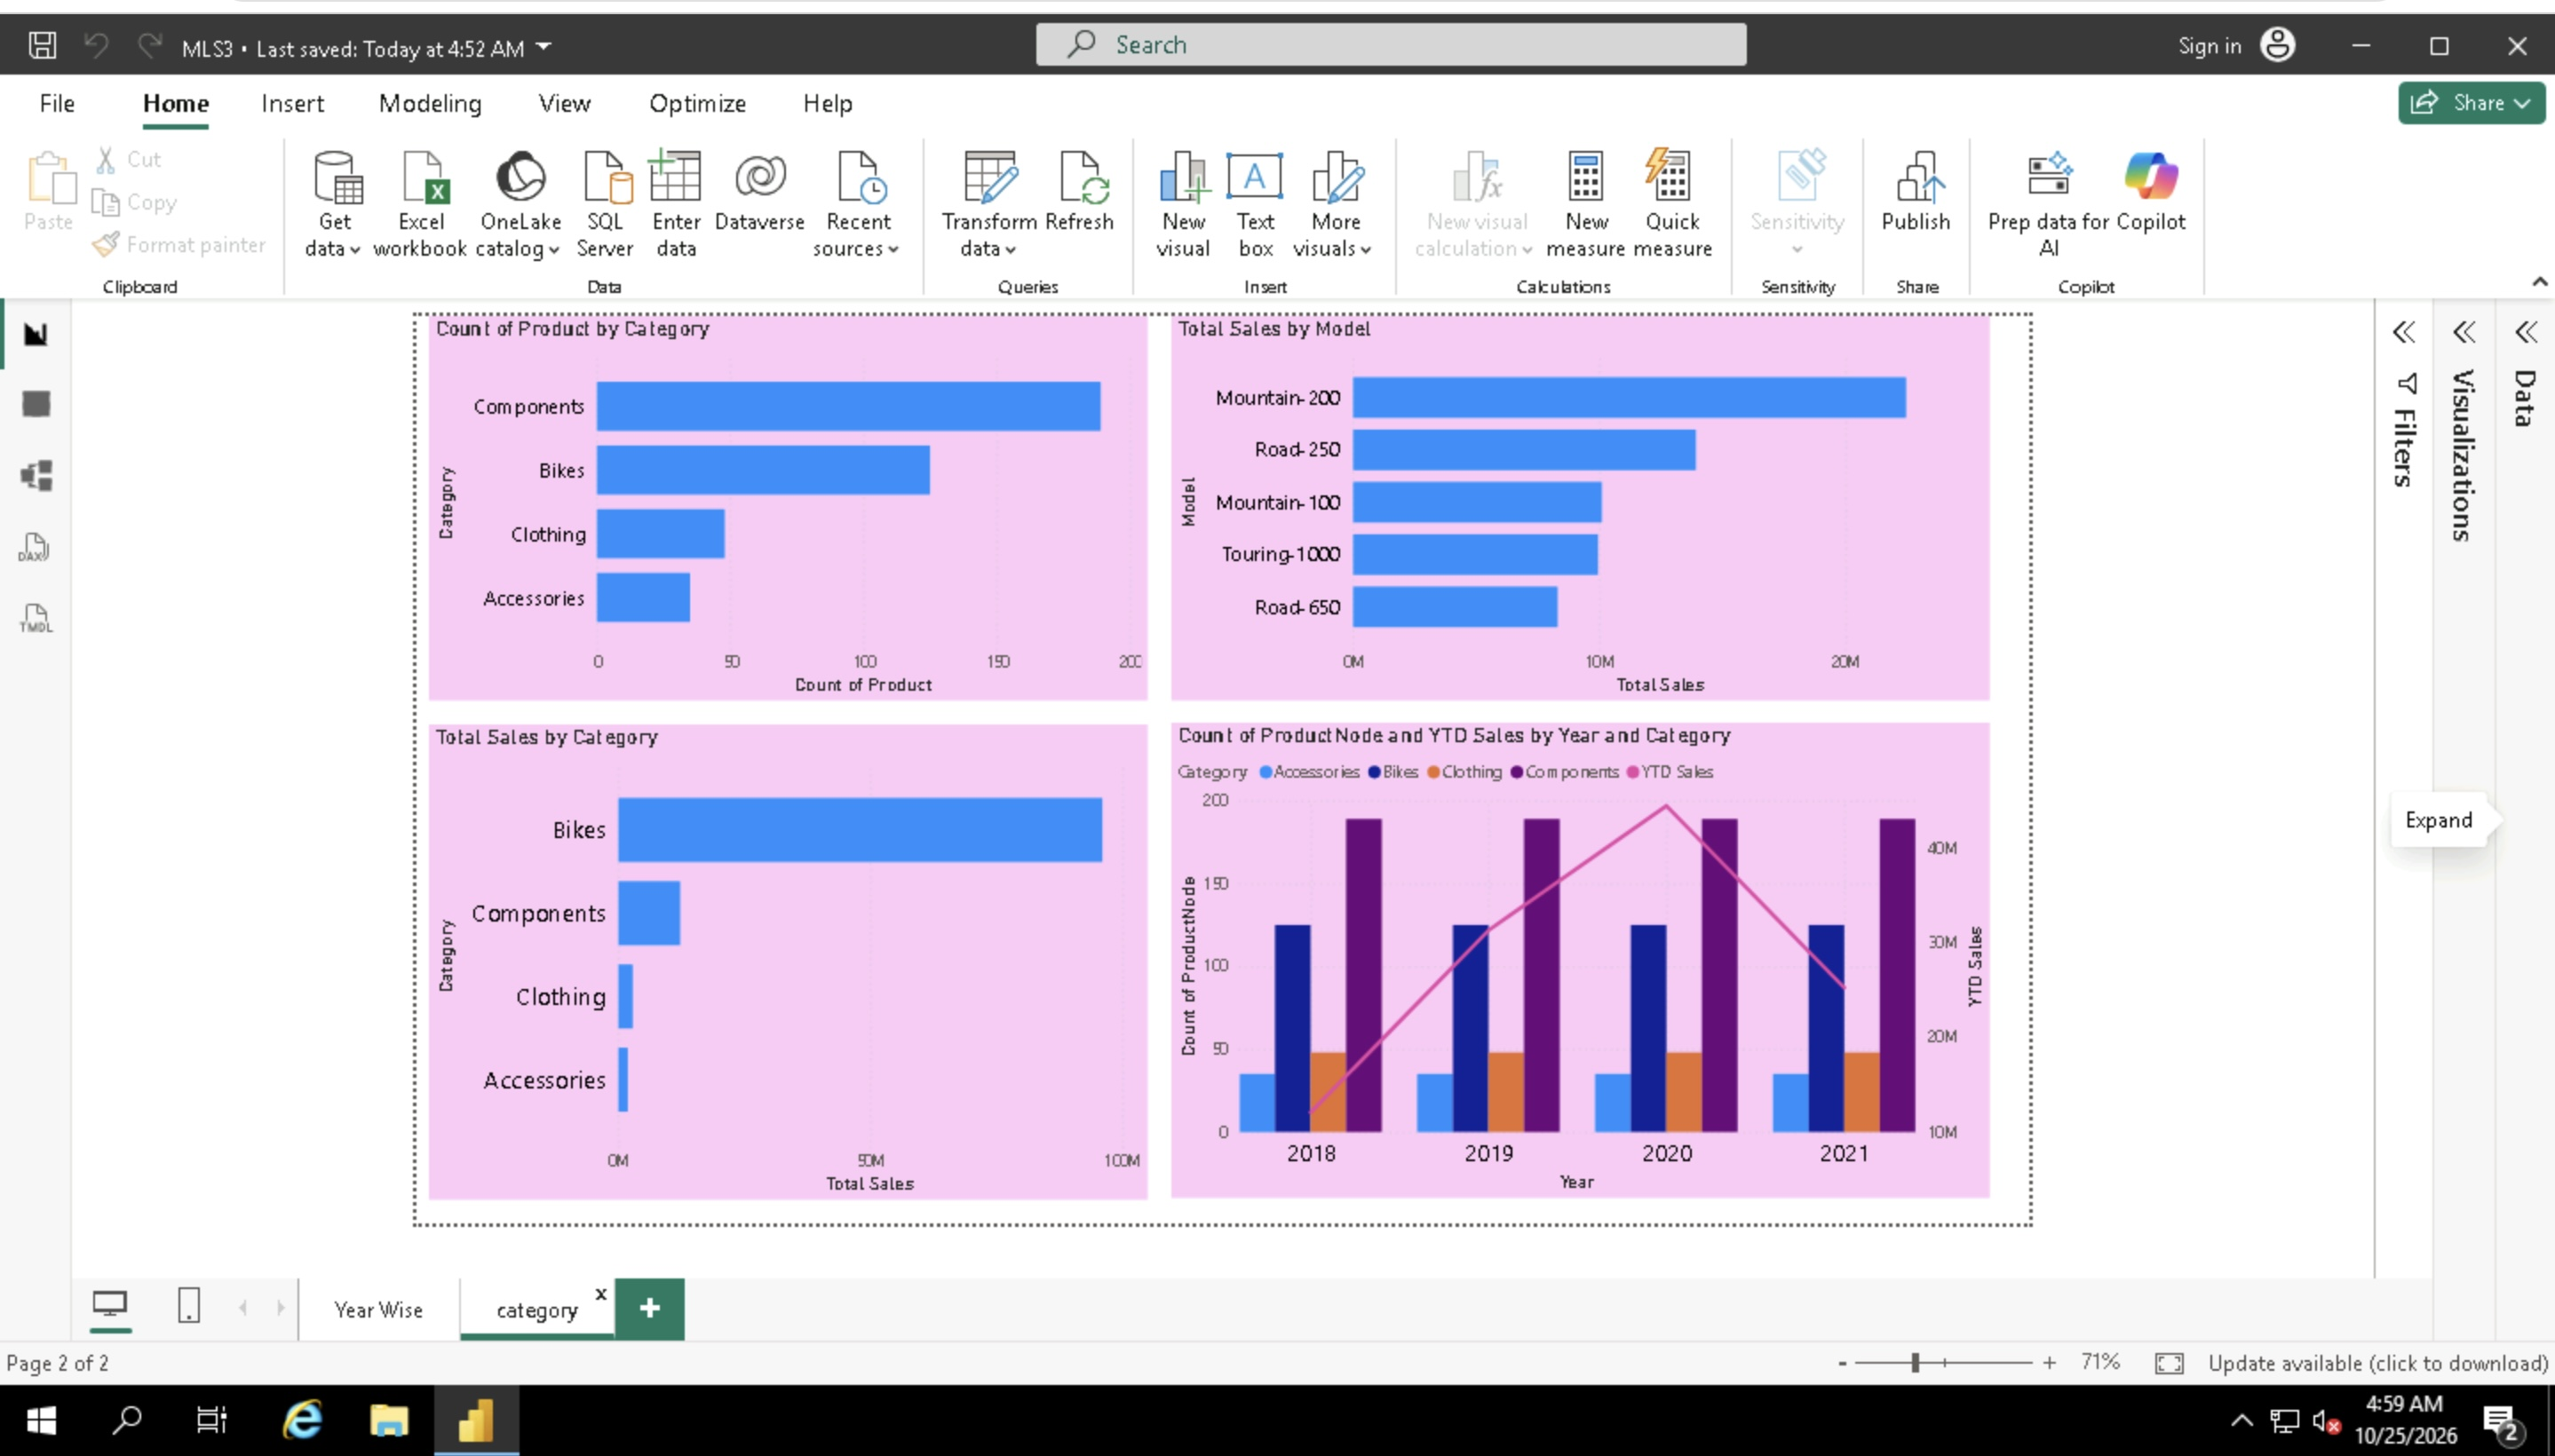

Layout of this report page (visuals, bound fields, positions):
{"tool":"powerbi","page":{"name":"category","canvas":[1280,720],"ordinal":1},"visuals":[{"type":"barChart","fields":{"Y":["CountNonNull(Product.Product)"],"Category":["Product.Category"]},"box":[9.6,0,569.9,305.5],"z":0},{"type":"barChart","fields":{"Category":["Product.Category"],"Y":["Measure Table.Total Sales"]},"box":[9.6,323.3,569.9,376.7],"z":1000},{"type":"barChart","fields":{"Y":["Measure Table.Total Sales"],"Category":["Product.Model"]},"box":[598.6,0,649.3,305.5],"z":2000},{"type":"lineClusteredColumnComboChart","fields":{"Y2":["Measure Table.YTD Sales"],"Y":["CountNonNull(Product.ProductNode)"],"Category":["Date.DateNode.Variation.Date Hierarchy.Year"],"Series":["Product.Category"]},"box":[599,323,649,377],"z":3000}]}

Visuals, with their boxes on the page's 1280x720 design canvas (x1, y1, x2, y2). These are canvas units, not pixel positions in the 2555x1456 screenshot, which may show the page scaled, cropped or inside an application window:
barChart - CountNonNull(Product.Product) x Product.Category: (10, 0, 580, 306)
barChart - Product.Category x Measure Table.Total Sales: (10, 323, 580, 700)
barChart - Measure Table.Total Sales x Product.Model: (599, 0, 1248, 306)
lineClusteredColumnComboChart - Measure Table.YTD Sales x CountNonNull(Product.ProductNode): (599, 323, 1248, 700)
